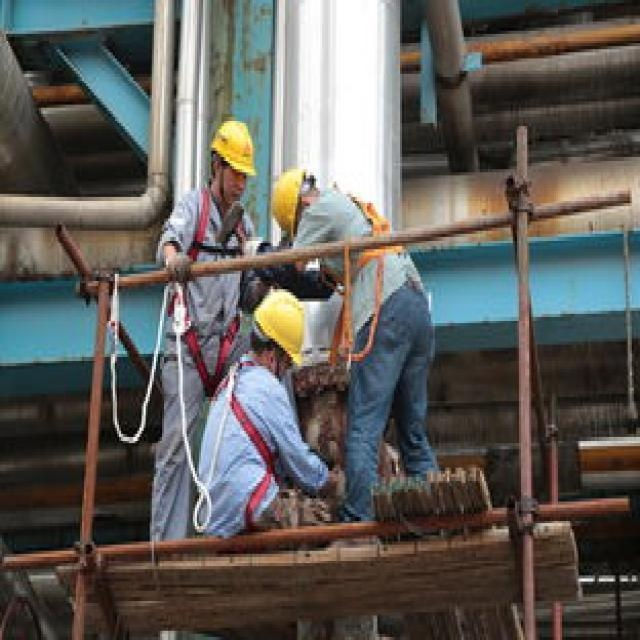Arnes_seguridad: (310, 178, 410, 357), (168, 178, 246, 391), (212, 351, 290, 523)
